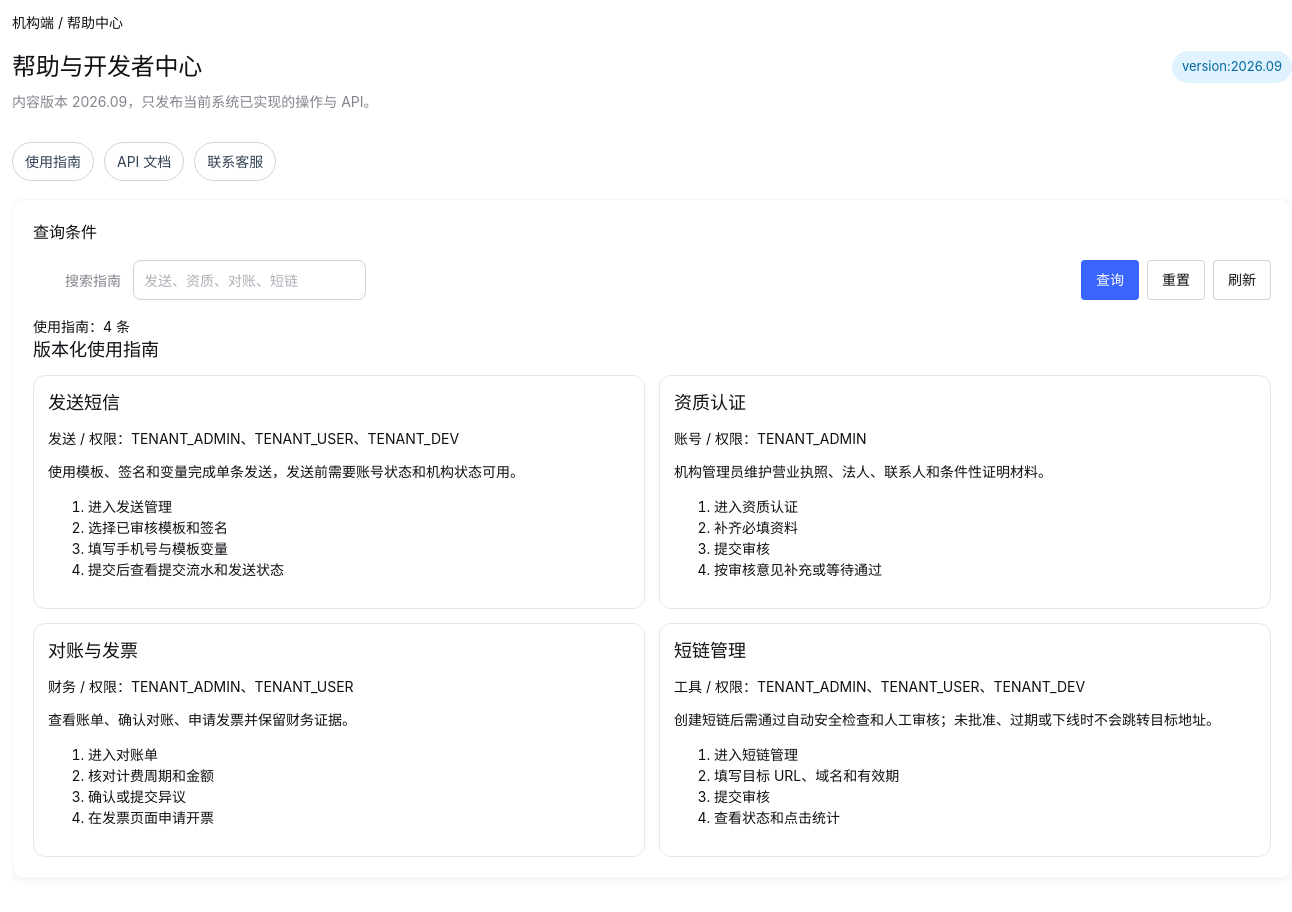
tenant help center query controls › applies the guide search from the shared query action
Type "短链" into the field with test id "tenant-tenant-help-guide-search-input". click: (250, 280)
box: [133, 260, 366, 300]
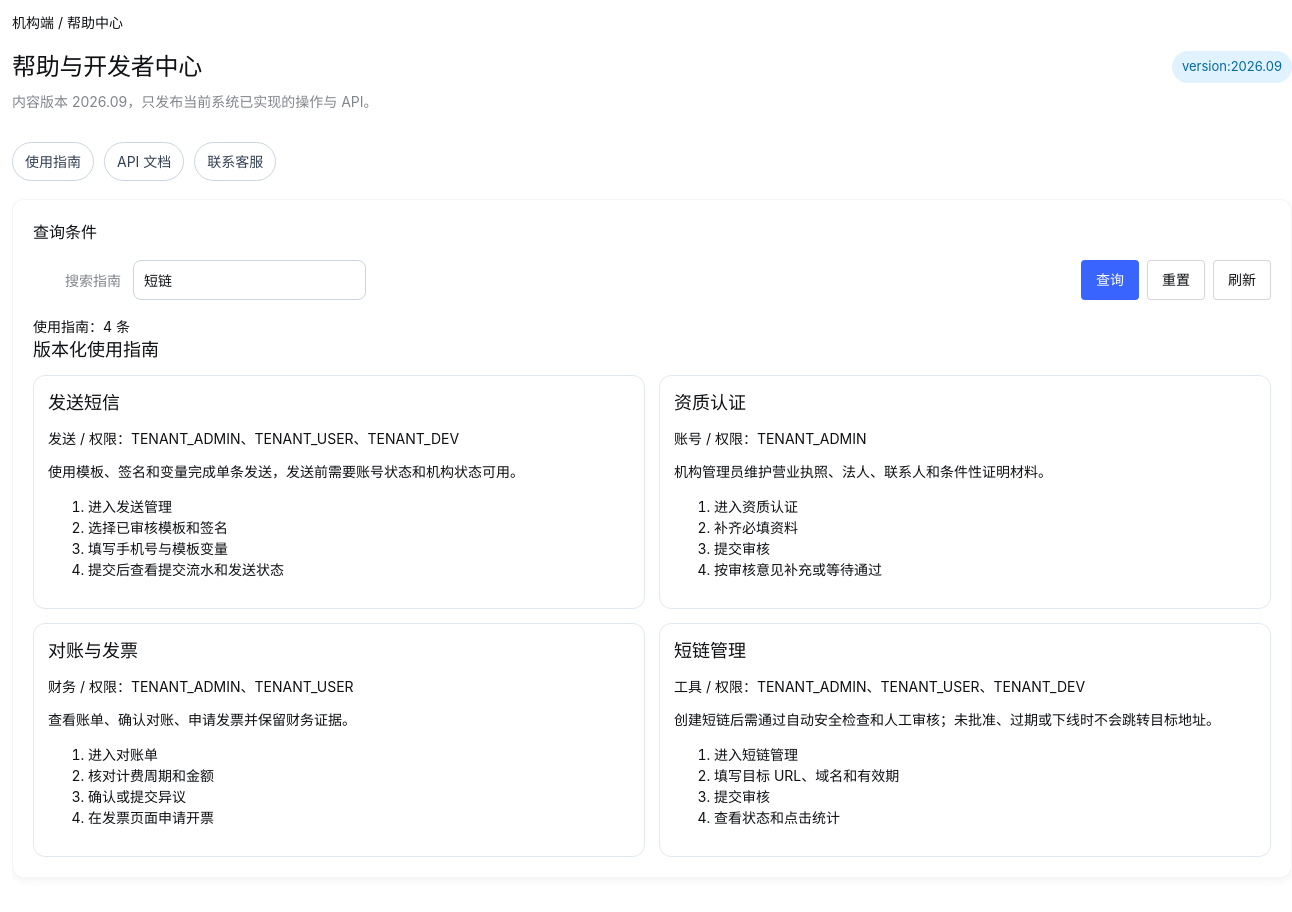
Expected: the element with test id "tenant-tenant-help-guide-results" shows "资质", [33, 375, 1271, 857]
Click the button with test id "query-submit". click: (1110, 280)
box: [1081, 260, 1139, 300]
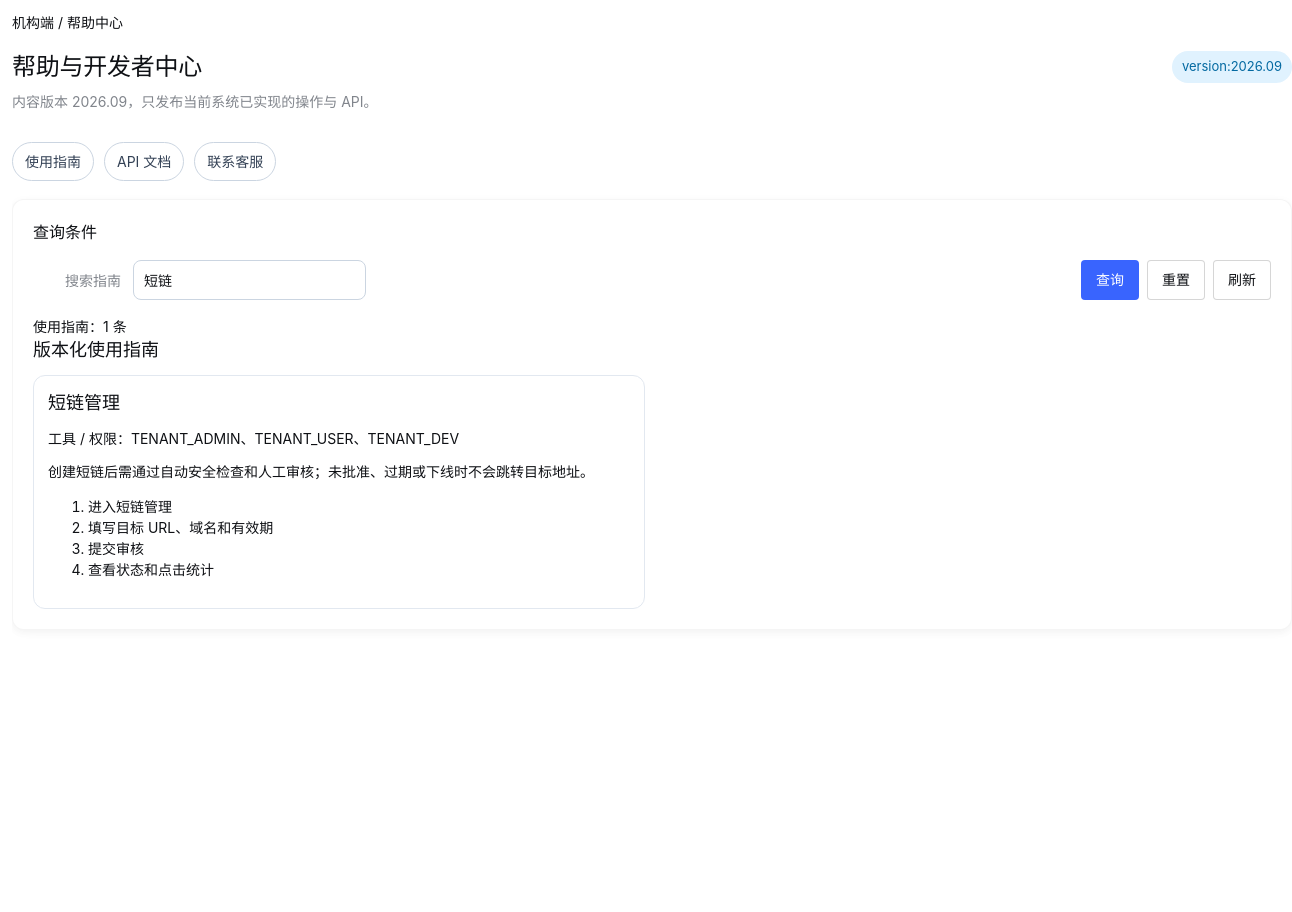
Expected: the element with test id "tenant-tenant-help-guide-results" shows "短链管理", [48, 392, 120, 413]
Expected: the element with test id "tenant-tenant-help-guide-results" no longer shows "资质", [33, 375, 645, 609]
